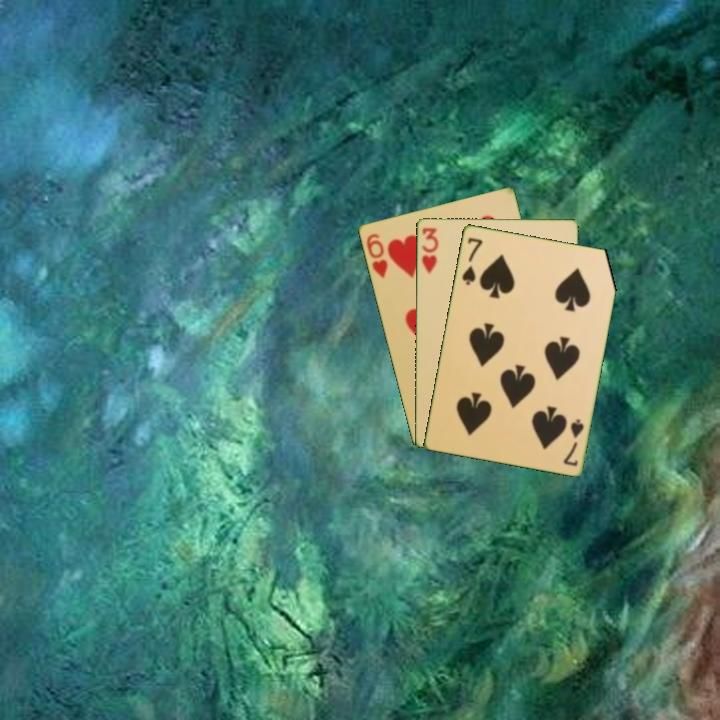3h: (418, 224, 441, 276)
6h: (362, 230, 390, 281)
7s: (458, 234, 485, 288), (560, 415, 586, 469)
